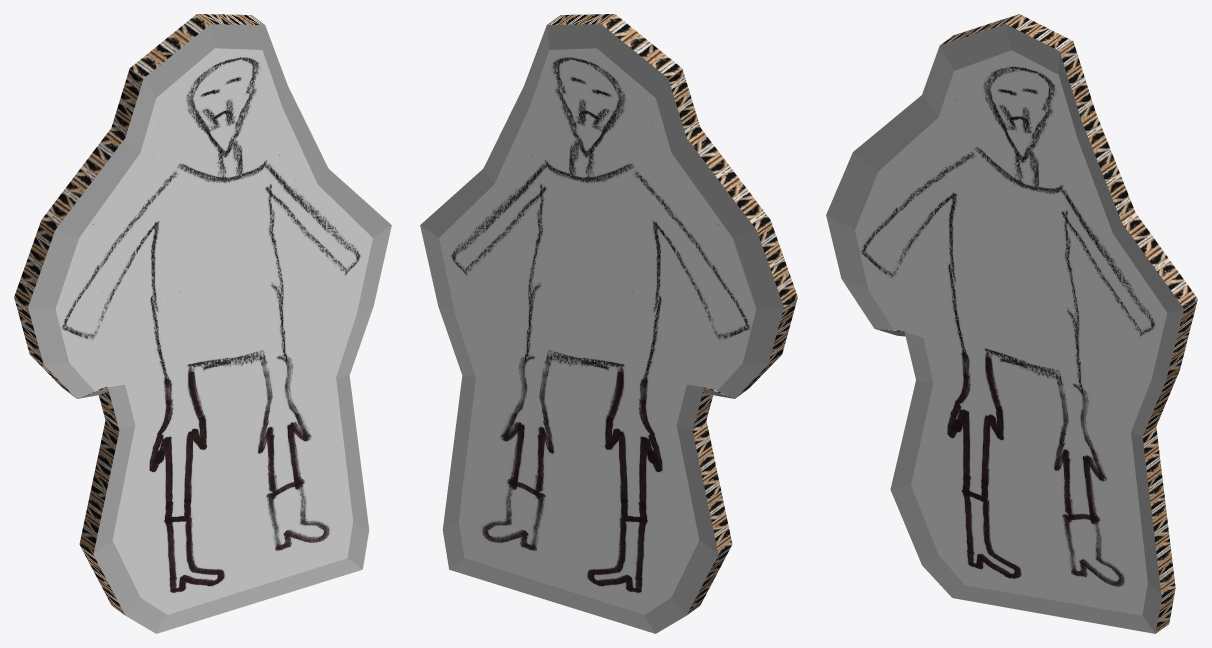
The model's file is PolviPaavo.fbx.
3 views of the same model, side by side, from view 1: azimuth 30°, elevation 25°; view 2: azimuth 150°, elevation 25°; view 3: azimuth 330°, elevation 25° (orthographic).
Parts seen in each view (by area): view 1: PolviPaavo; view 2: PolviPaavo; view 3: PolviPaavo.
Boxes of the visible parts, bbox=[...] form: PolviPaavo: bbox=[14, 14, 391, 633]; PolviPaavo: bbox=[420, 14, 797, 633]; PolviPaavo: bbox=[826, 14, 1197, 633].
Size of the model in its own units: 137 by 215 by 9.1.
